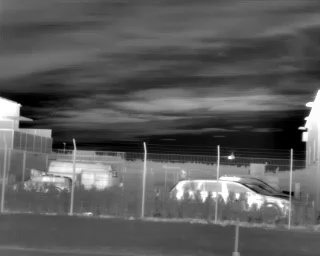HELICOPTER: (225, 151, 237, 163)
